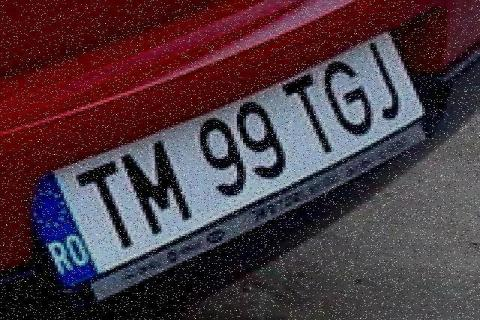LicensePlate: (30, 28, 434, 312)
